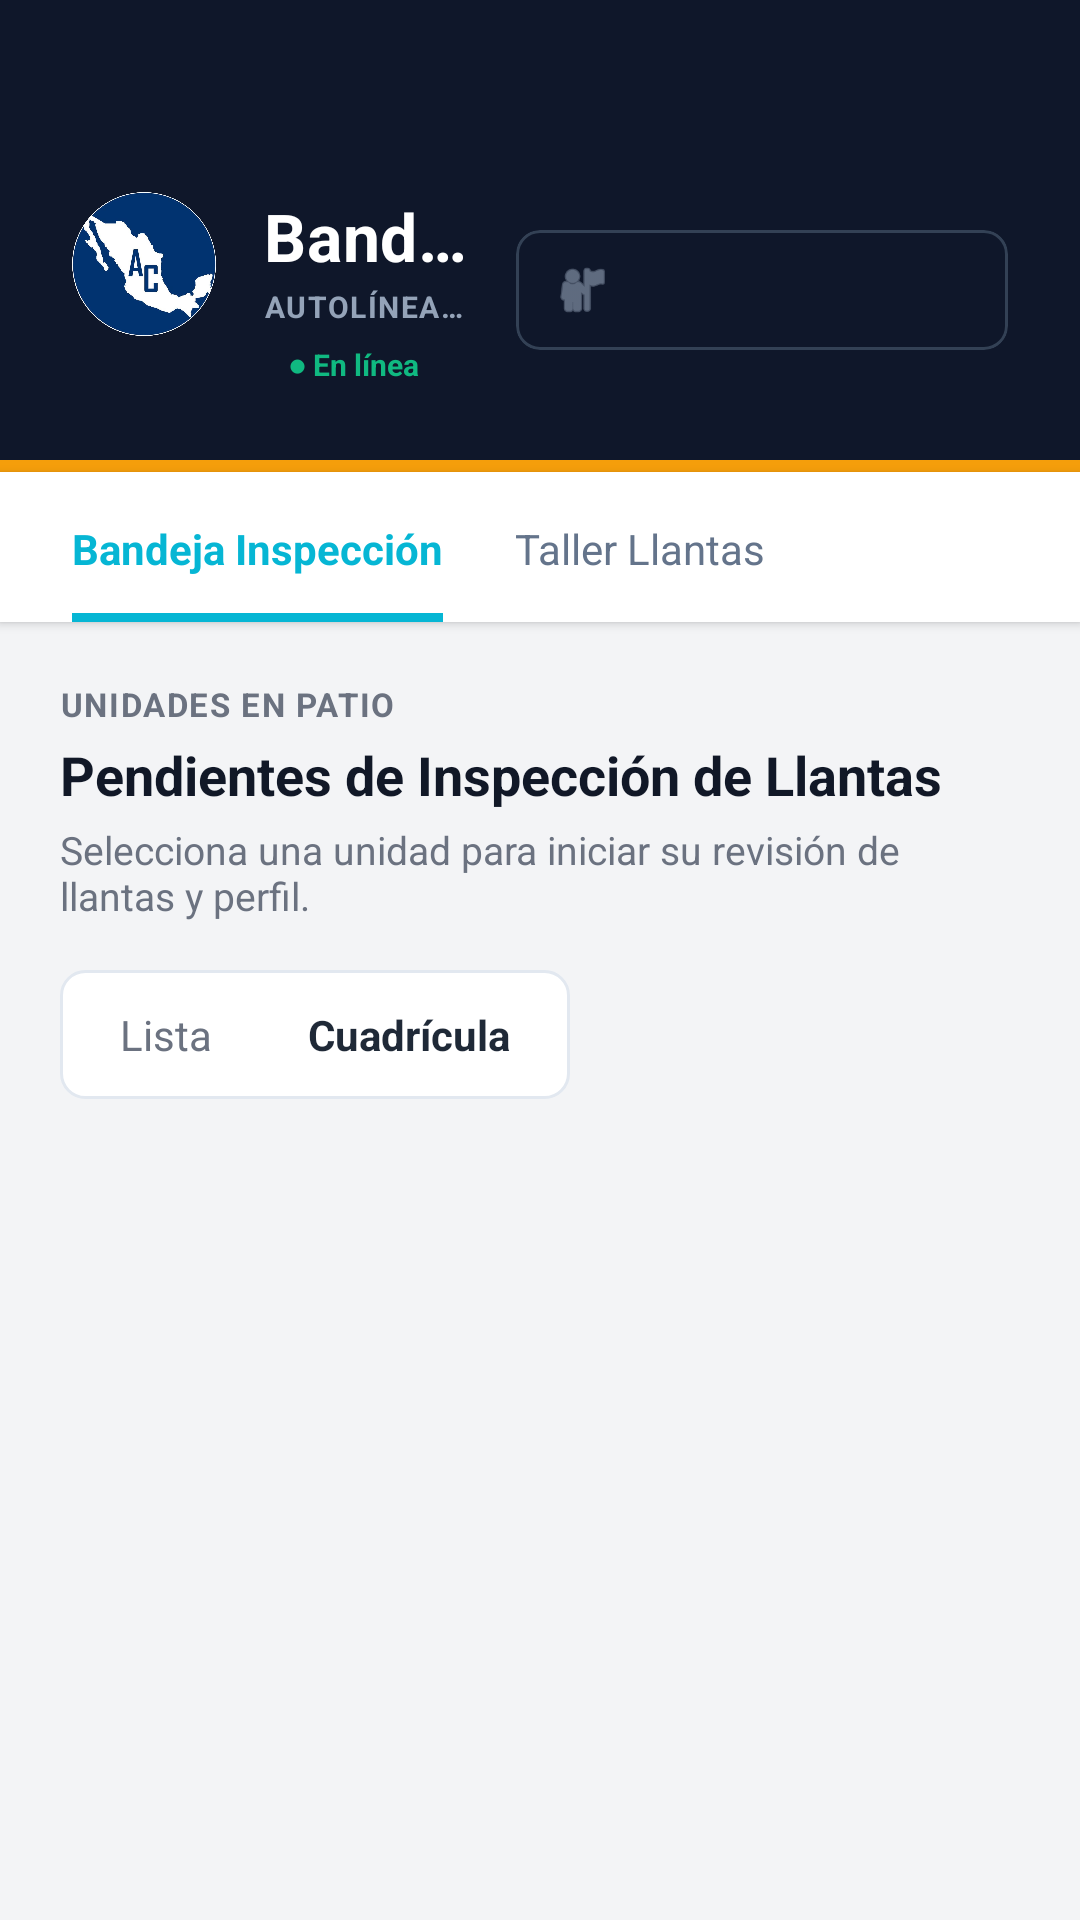

Named icons in this screenshot (1080px×1920px) and their centers, point (x, y):
myplaces: point (582, 290)
